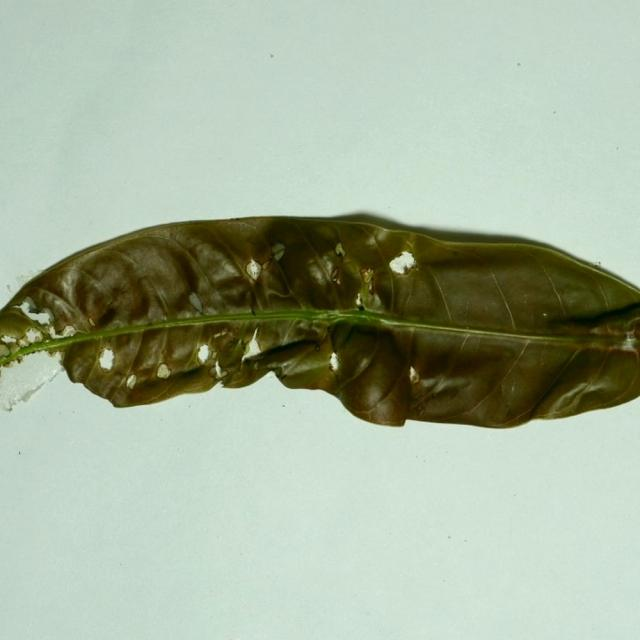Anthracnose: (109, 230, 223, 308), (481, 334, 568, 421), (330, 328, 407, 423), (12, 283, 90, 333), (119, 326, 179, 387), (373, 243, 437, 300), (530, 258, 577, 324), (563, 294, 640, 331), (481, 264, 518, 324), (259, 261, 303, 309), (418, 373, 477, 405), (195, 218, 269, 243), (379, 236, 401, 318), (63, 337, 99, 385)
Mango: (0, 214, 639, 432)
